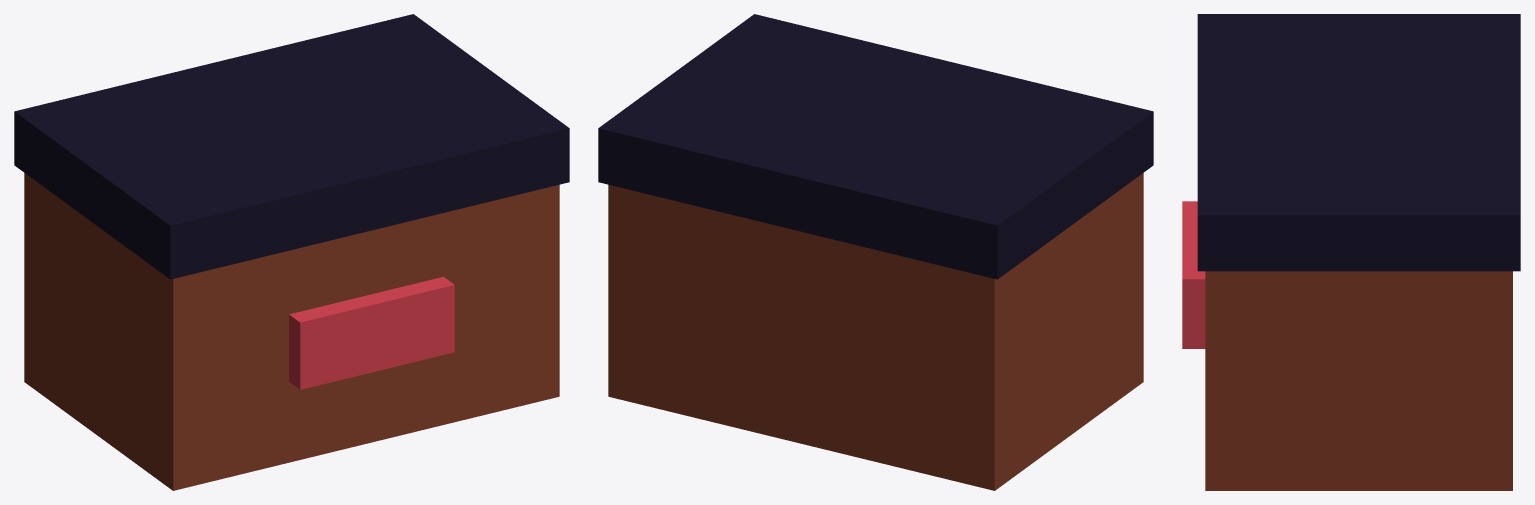
File: ammo_shells.glb
3 renders of one model, left to right at view 1: azimuth 30°, elevation 25°; view 2: azimuth 150°, elevation 25°; view 3: azimuth 270°, elevation 25°, orthographic. The views are drawn at different scales.
Visible parts, largest first — view 1: model; view 2: model; view 3: model.
Boxes of the visible parts, x1,y1,x2,y2 form: model: [14, 14, 569, 490]; model: [598, 14, 1153, 490]; model: [1182, 14, 1520, 490].
Bounding box in the file's own units: 0.31 × 0.2 × 0.22.
